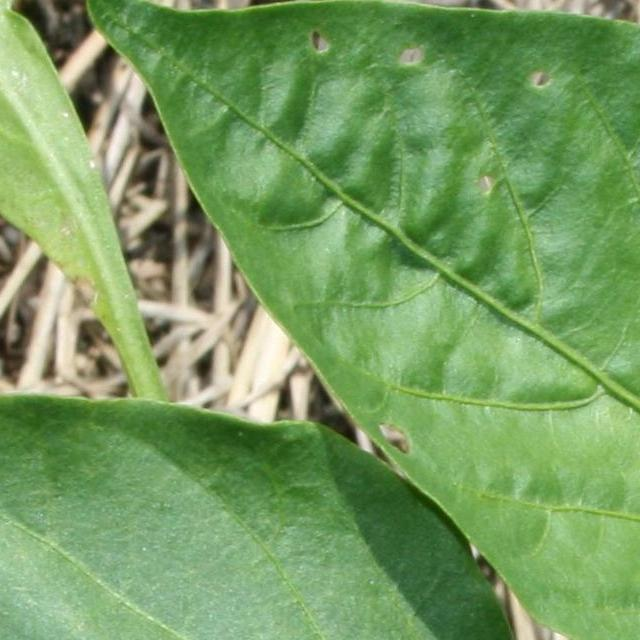Tomato leaf: (57, 0, 640, 640), (0, 413, 604, 640), (0, 0, 200, 370)
